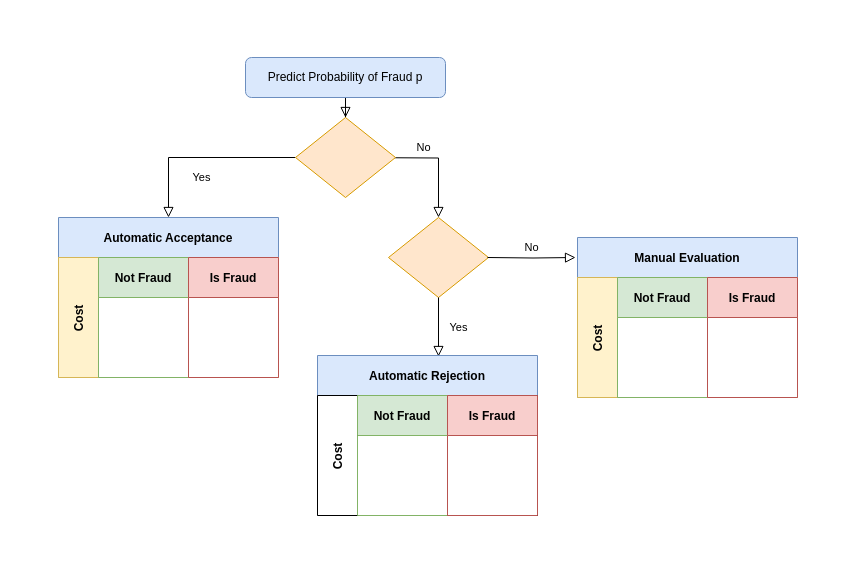
The diagram is 854 pixels wide and 574 high, and some of its shapes have lost their labels. Here are the shapes that lost their labels. From the top down, the centre of each, then its label:
At pixel 345 157: "p < 0.1".
At pixel 438 257: "p > 0.95".
